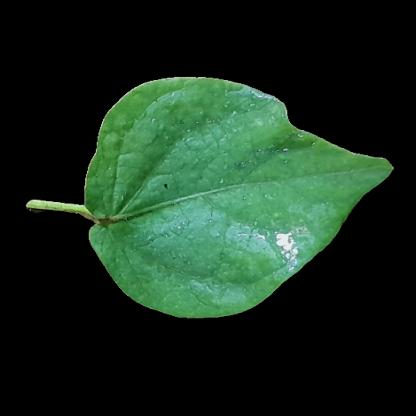healthy: (151, 95, 257, 299), (271, 145, 333, 242), (84, 138, 155, 202), (109, 215, 153, 275)
